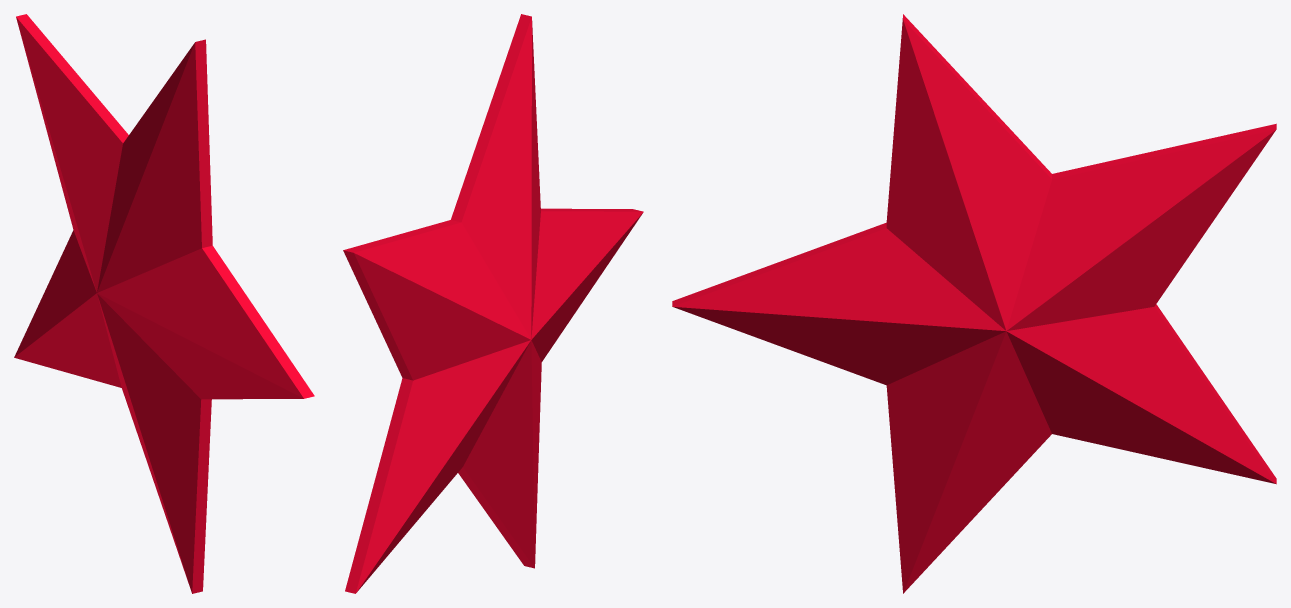
Rendered from star_red.glb.
The picture shows the model from 3 angles, left to right: view 1: azimuth 30°, elevation 25°; view 2: azimuth 150°, elevation 25°; view 3: azimuth 270°, elevation 25°; orthographic projection. The views are drawn at different scales.
Parts seen in each view (by area): view 1: Star; view 2: Star; view 3: Star.
Boxes of the visible parts, x1=… form: Star: x1=14, y1=14, x2=314, y2=593; Star: x1=343, y1=14, x2=643, y2=593; Star: x1=672, y1=14, x2=1276, y2=593.
Bounding box in the file's own units: 0.917 × 4.58 × 4.35.
